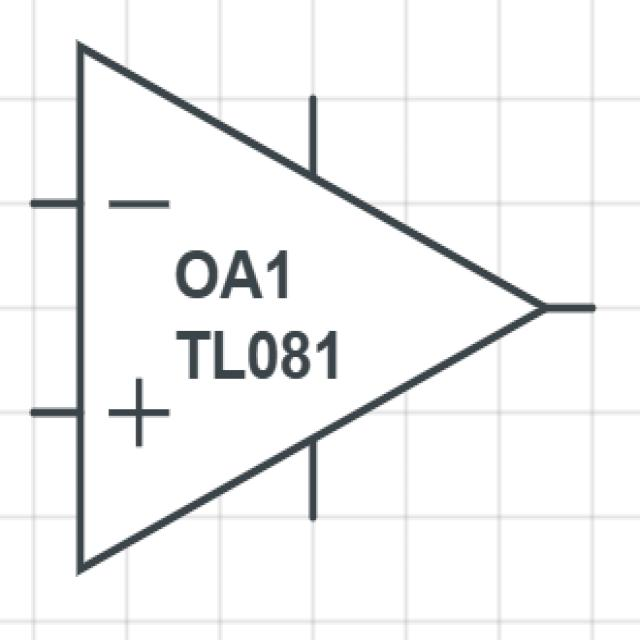ic: (22, 12, 615, 594)
